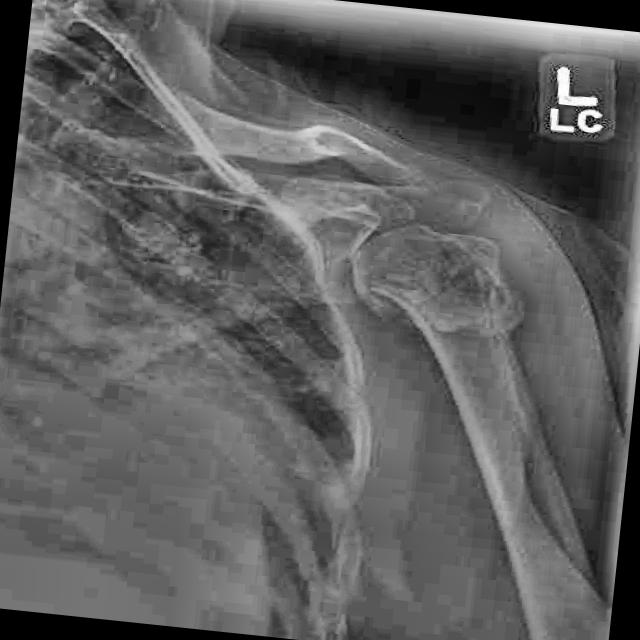shoulder fracture: (344, 212, 545, 352)
